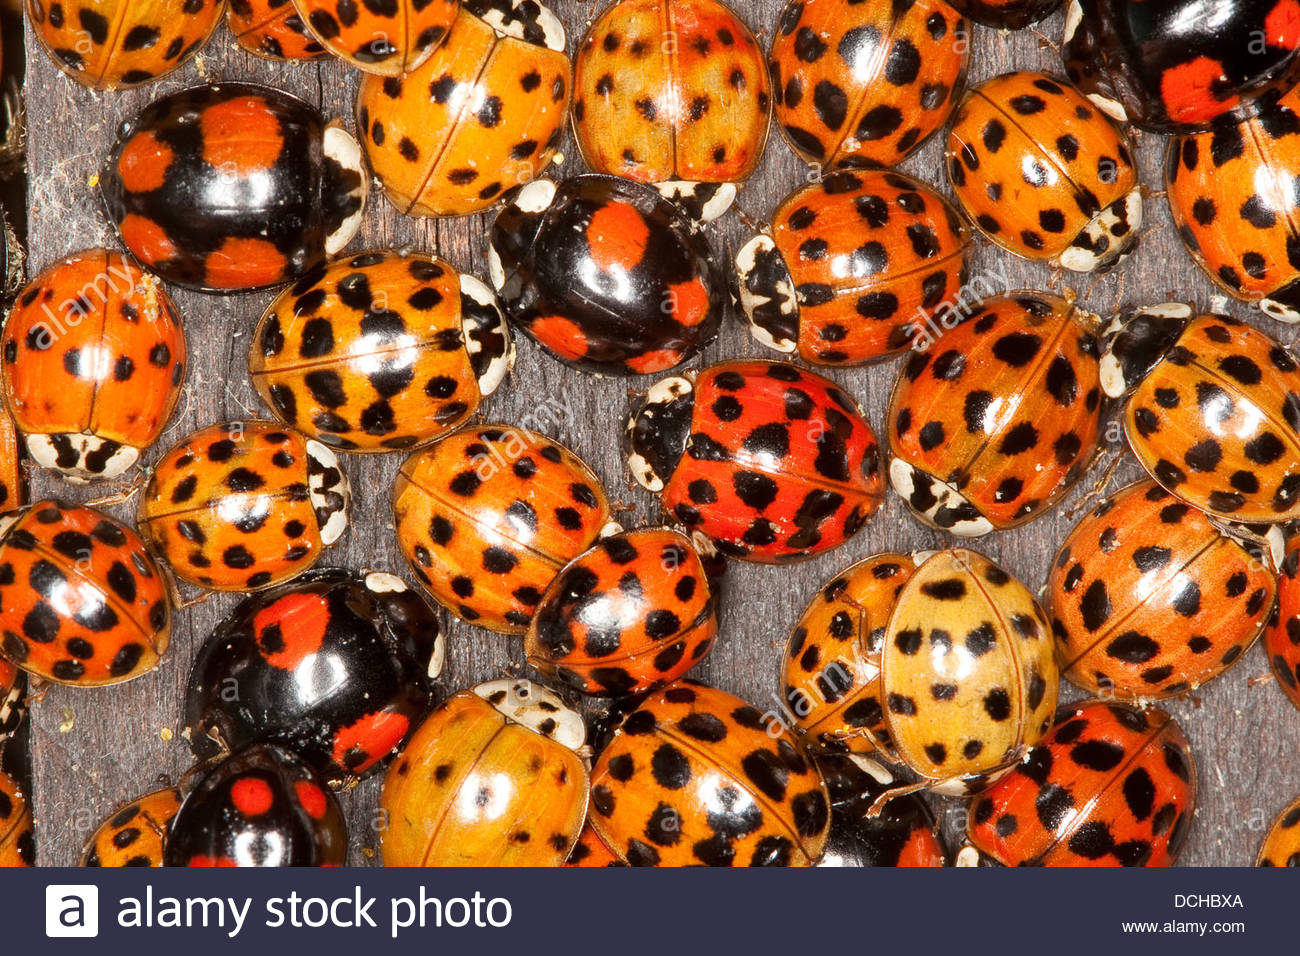red: (621, 359, 893, 567), (248, 248, 513, 447), (884, 295, 1105, 530), (729, 163, 980, 366), (1045, 483, 1264, 706), (1096, 299, 1300, 532), (583, 680, 834, 869), (361, 0, 569, 213), (875, 550, 1059, 786), (946, 68, 1146, 269), (377, 680, 583, 869), (135, 421, 345, 588), (580, 3, 760, 183), (535, 528, 721, 699), (0, 503, 167, 687), (770, 0, 976, 149)
two_spots: (184, 573, 450, 774)
two_spots_mutant: (101, 83, 366, 292), (482, 170, 728, 379), (158, 747, 351, 867)
